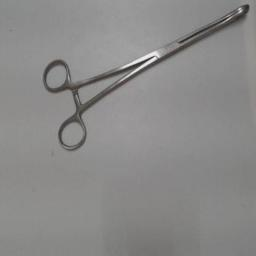Sponge Forceps: (38, 2, 254, 156)
